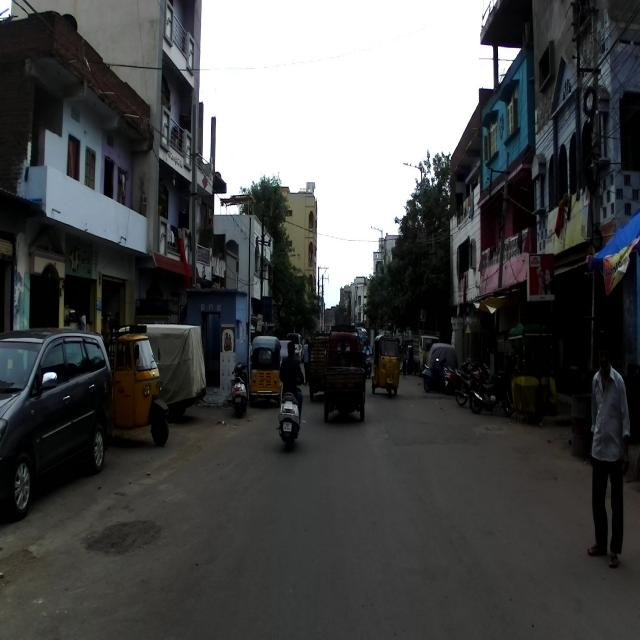autorickshaw: (87, 319, 170, 447)
car: (0, 326, 114, 525), (110, 322, 206, 418)
motorcycle: (468, 368, 512, 415)
scooter: (275, 373, 306, 450), (421, 360, 450, 392), (231, 359, 248, 412)
